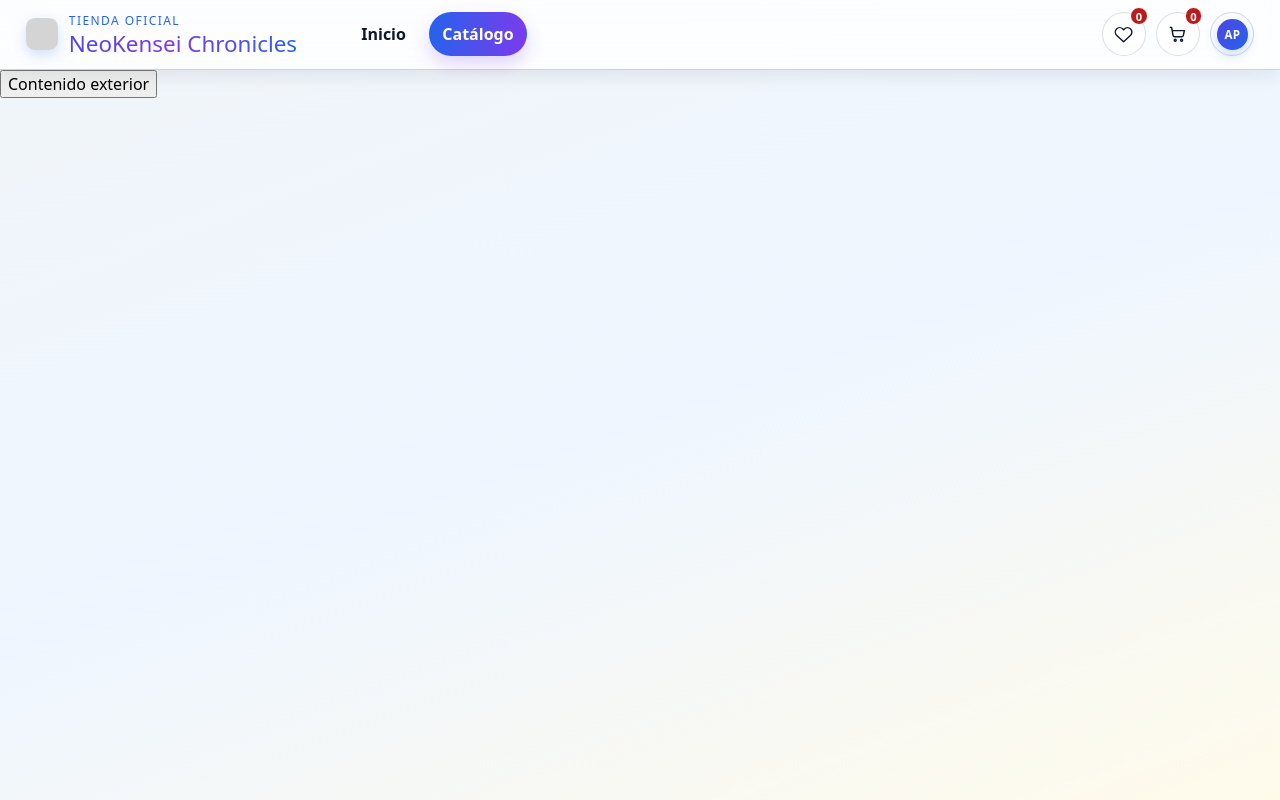
Test: Header › cierra el menú de usuario con Escape y devuelve el foco a su botón
Click the button with aria-label "Abrir menú de usuario" at (1232, 34), box [1210, 12, 1254, 56]
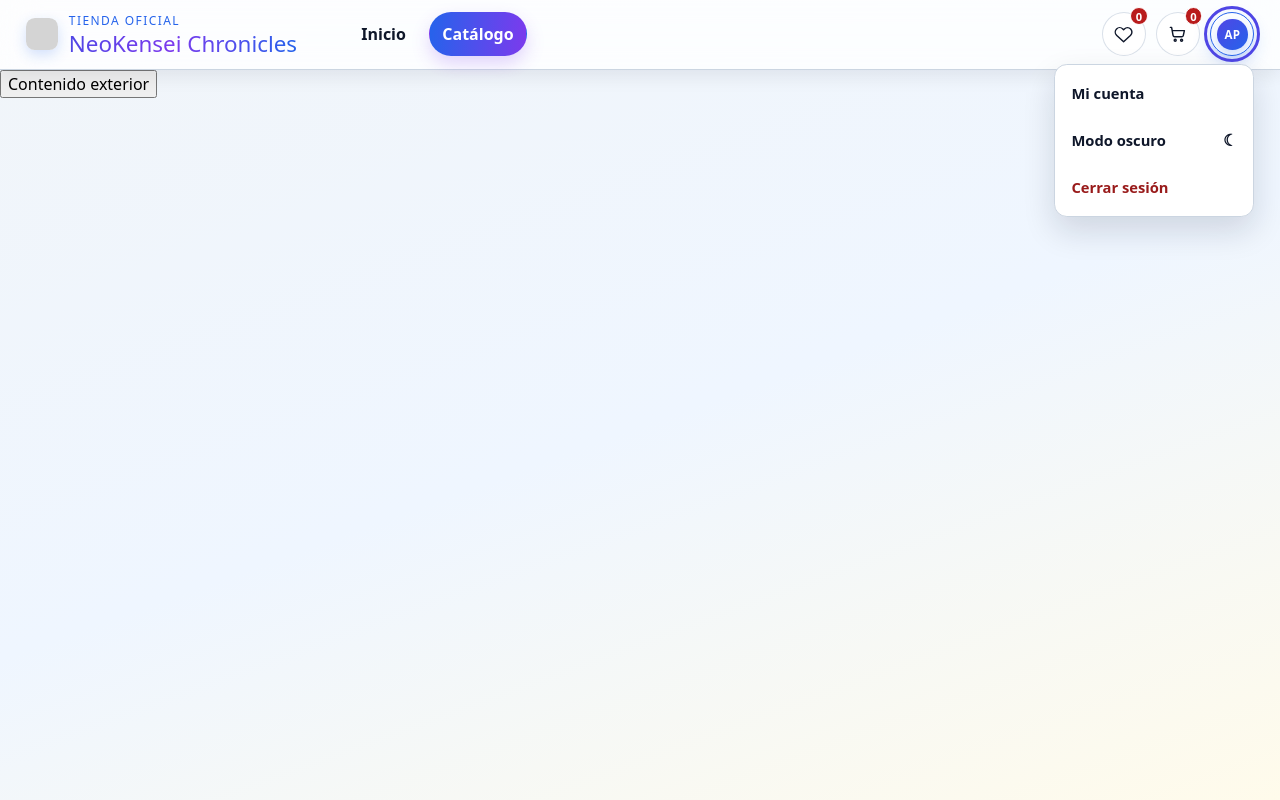
Expected: the button named "Abrir menú de usuario" is expanded, [1210, 12, 1254, 56]
Expected: the button with aria-label "Cambiar a modo oscuro" is shown, [1062, 118, 1247, 162]
Press Escape
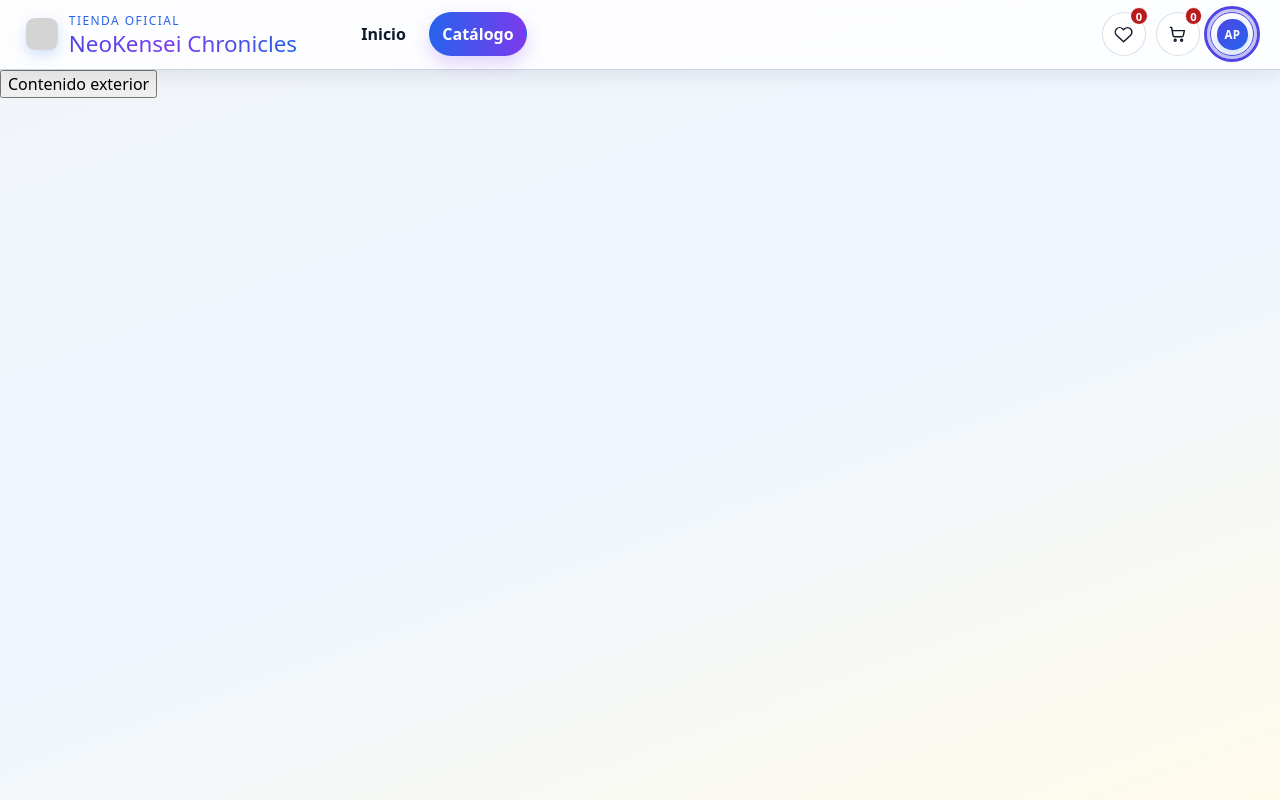
Expected: the button with aria-label "Abrir menú de usuario" is collapsed, [1210, 12, 1254, 56]
